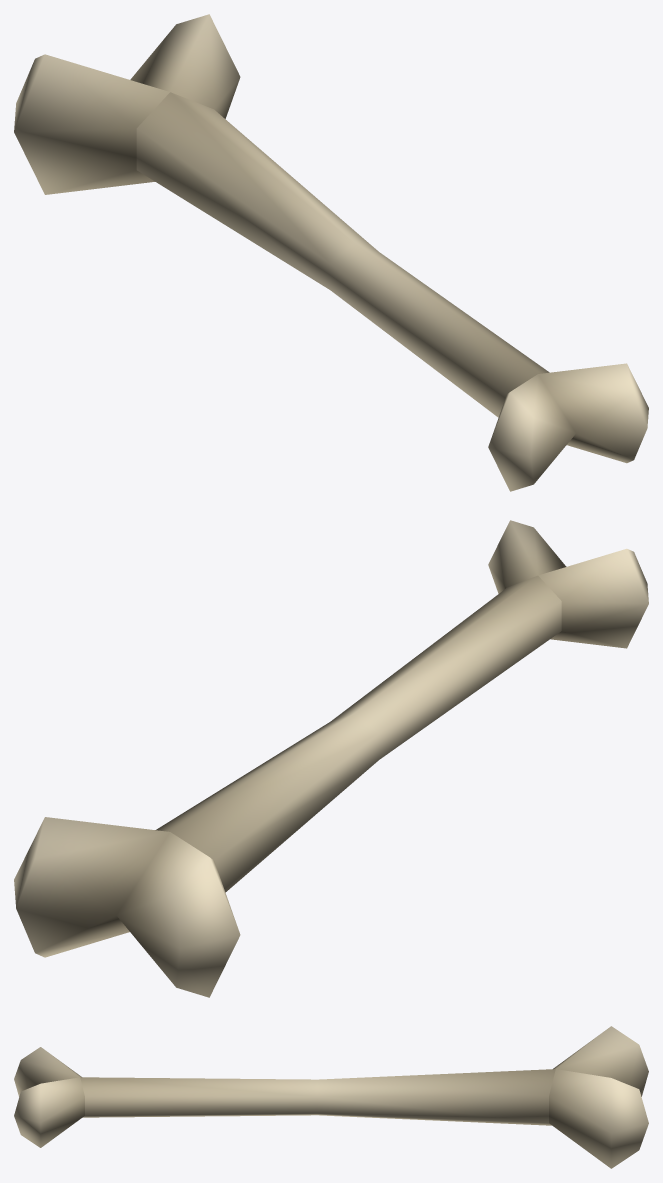
Rendered from Bone_1A.fbx.
The picture shows the model from 3 angles, top to bottom: view 1: azimuth 30°, elevation 25°; view 2: azimuth 150°, elevation 25°; view 3: azimuth 270°, elevation 25°; orthographic projection. The views are drawn at different scales.
Visible parts, largest first — view 1: Bone_1A; view 2: Bone_1A; view 3: Bone_1A.
Boxes of the visible parts, x1=… form: Bone_1A: x1=14, y1=14, x2=648, y2=491; Bone_1A: x1=14, y1=520, x2=648, y2=997; Bone_1A: x1=14, y1=1026, x2=648, y2=1168.
Bounding box in the file's own units: 0.2576 × 0.1529 × 0.9672.
